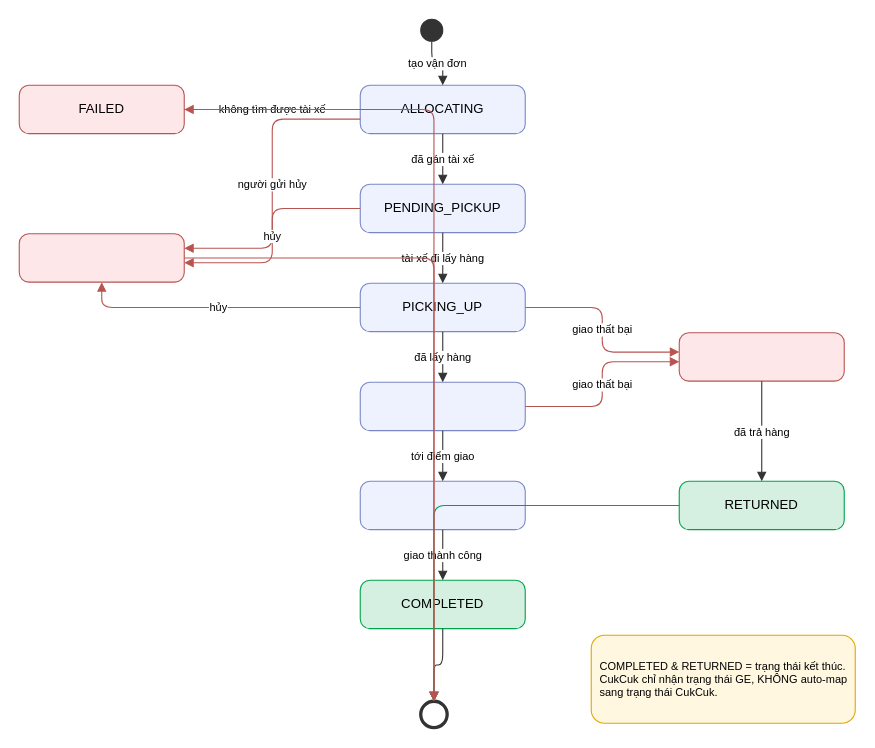
This 875x748 diagram has some shape labels left out. Each missing label, with the centre of its shape:
"CANCELED" goes at point 101,257.
"IN_DELIVERY" goes at point 442,505.
"IN_RETURN" goes at point 761,356.
"PENDING_DROP_OFF" goes at point 442,406.
